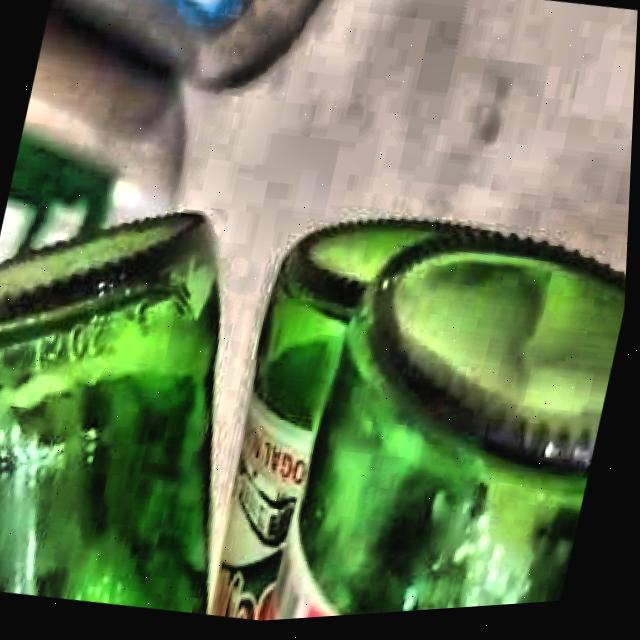glass: (219, 222, 629, 625), (0, 214, 221, 617)
